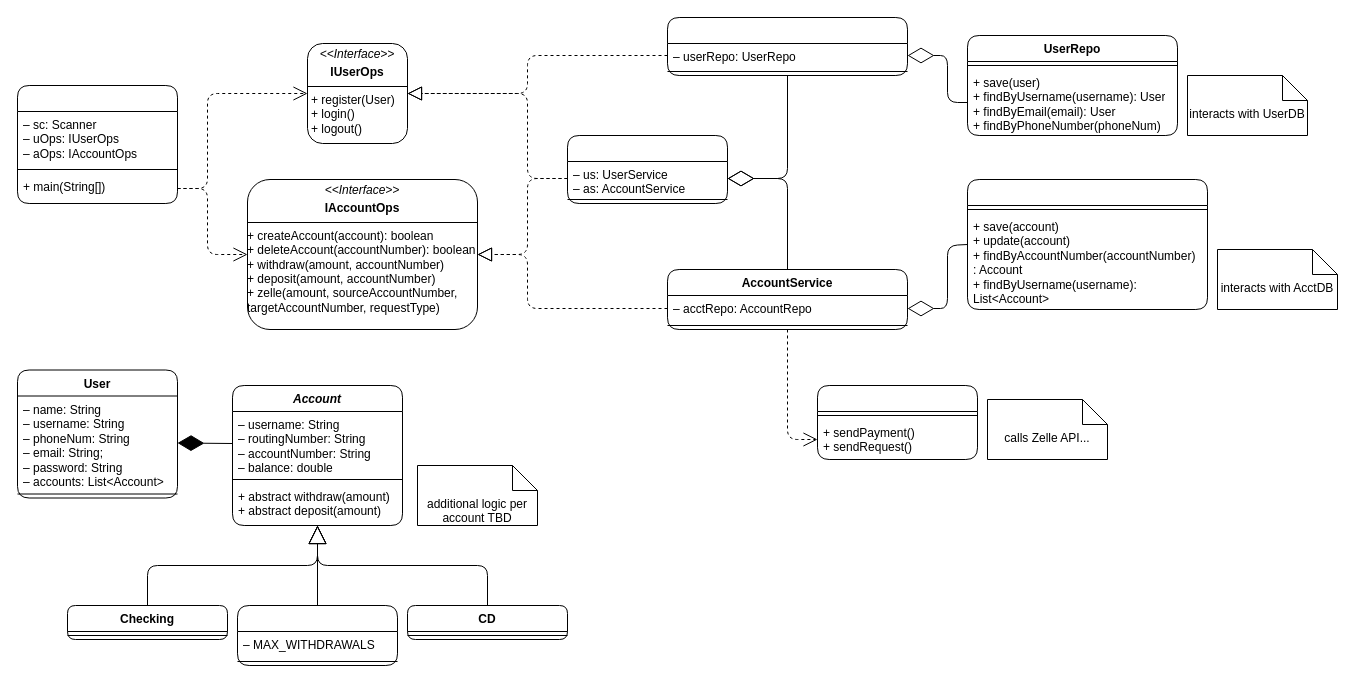
Some shapes in this 1355 by 683 pixel diagram are drawn without their labels. The shapes that lost their labels are listed below. From the top down, each one's box as (x1, y1, x2, y2) in pixels, then its label:
(666, 16, 908, 76): UserService
(16, 84, 178, 204): Client
(566, 134, 728, 204): ServiceProxy
(966, 178, 1208, 310): AccountRepo
(816, 384, 978, 460): ZelleAdapter
(236, 604, 398, 666): Saving
